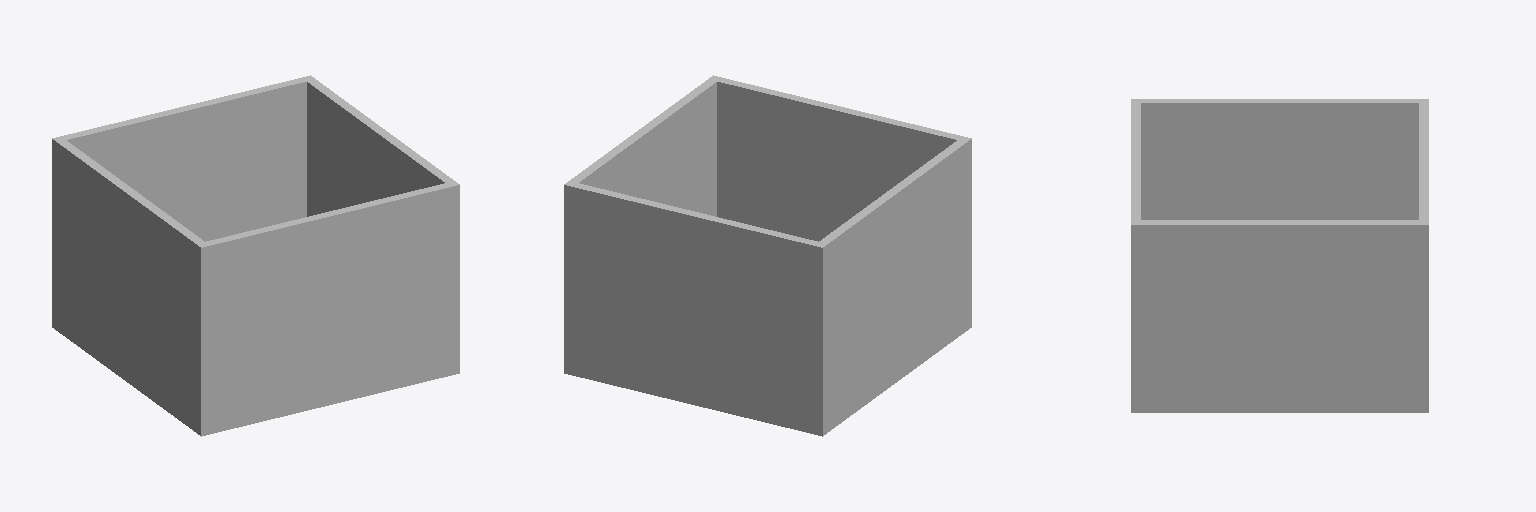
File: EscapeRoom_walls.obj
The picture shows the model from 3 angles: view 1: azimuth 30°, elevation 25°; view 2: azimuth 150°, elevation 25°; view 3: azimuth 270°, elevation 25°; orthographic projection.
Parts seen in each view (by area): view 1: Mesh1 Group1 Model; view 2: Mesh1 Group1 Model; view 3: Mesh1 Group1 Model.
Part boxes in pixels (x1,y1,x2,y2): Mesh1 Group1 Model: (52,75,459,436); Mesh1 Group1 Model: (564,75,971,436); Mesh1 Group1 Model: (1131,99,1428,412).
Size of the model in its own units: 4.3 by 3 by 4.3.